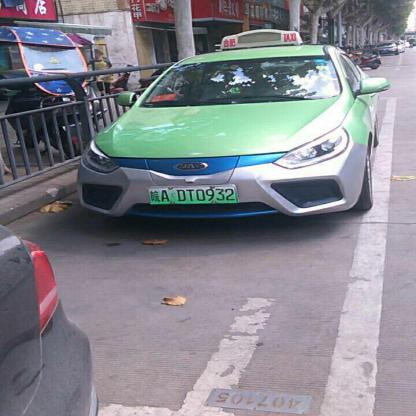lp: (147, 184, 238, 206)
